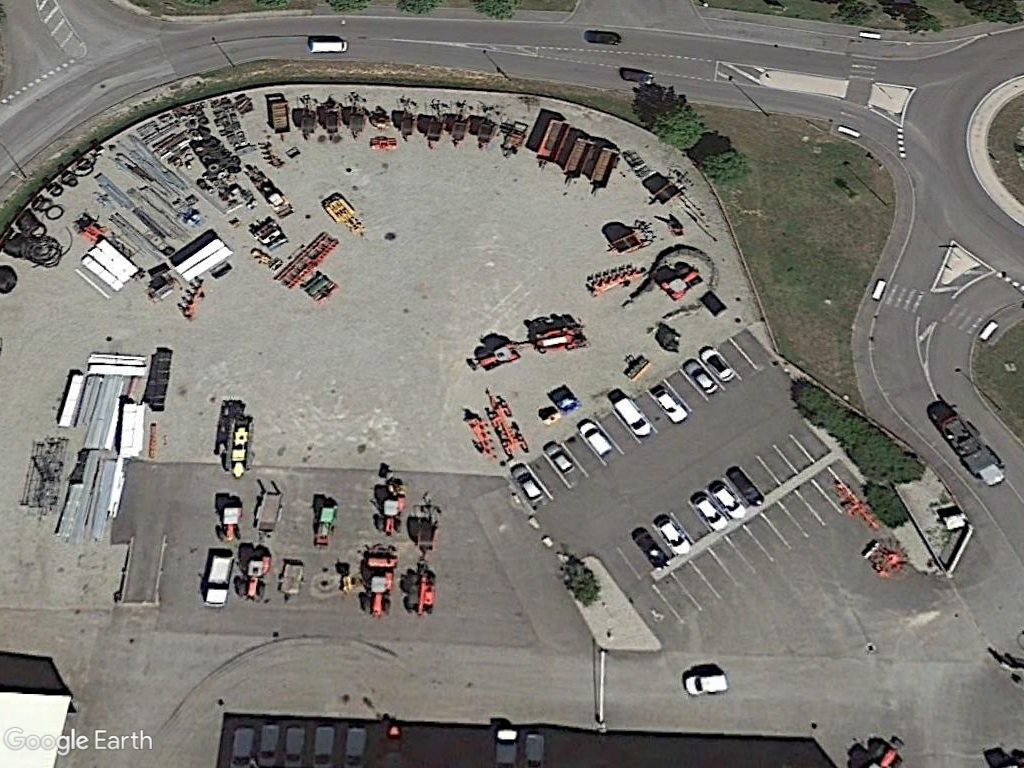car: (679, 669, 734, 698)
truck: (204, 546, 234, 612)
van: (604, 393, 655, 441)
